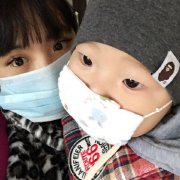OK: (3, 37, 84, 118)
WRONG: (62, 41, 158, 143)
